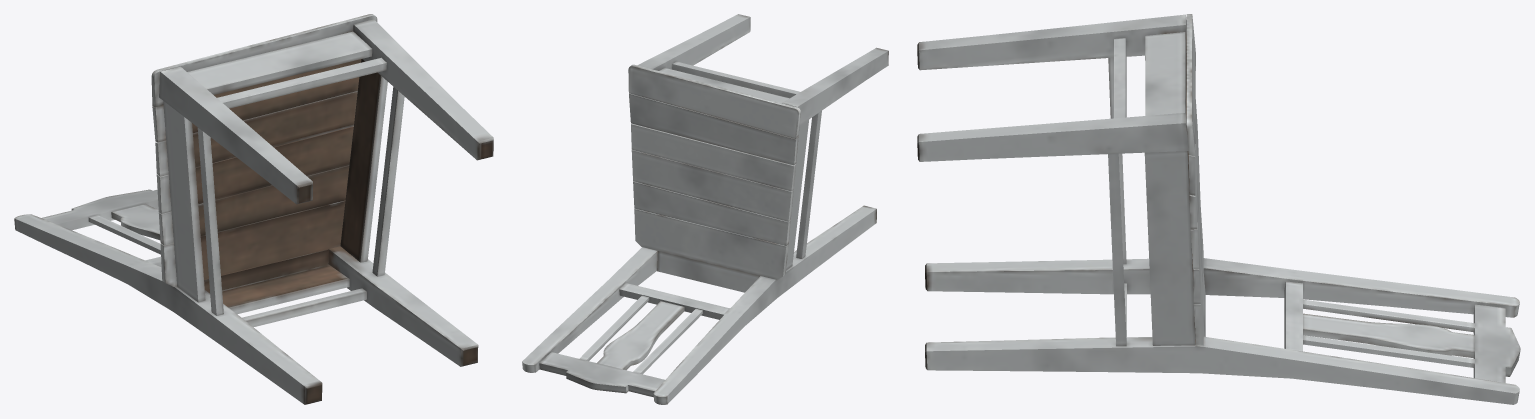
Rendered from KnockedChair.fbx.
3 renders of one model, left to right at view 1: azimuth 30°, elevation 25°; view 2: azimuth 150°, elevation 25°; view 3: azimuth 270°, elevation 25°, orthographic. The views are drawn at different scales.
Parts seen in each view (by area): view 1: KnockedChair; view 2: KnockedChair; view 3: KnockedChair.
Part boxes in pixels (<box>): KnockedChair: <box>14,14,493,404</box>; KnockedChair: <box>522,14,888,404</box>; KnockedChair: <box>917,14,1520,404</box>.
Size of the model in its own units: 0.4318 by 0.5215 by 0.9718.
